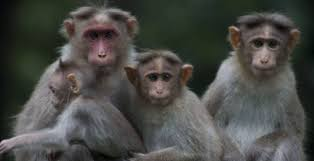monkey: (212, 8, 308, 159), (122, 50, 205, 149), (38, 7, 131, 94), (49, 64, 112, 145)
